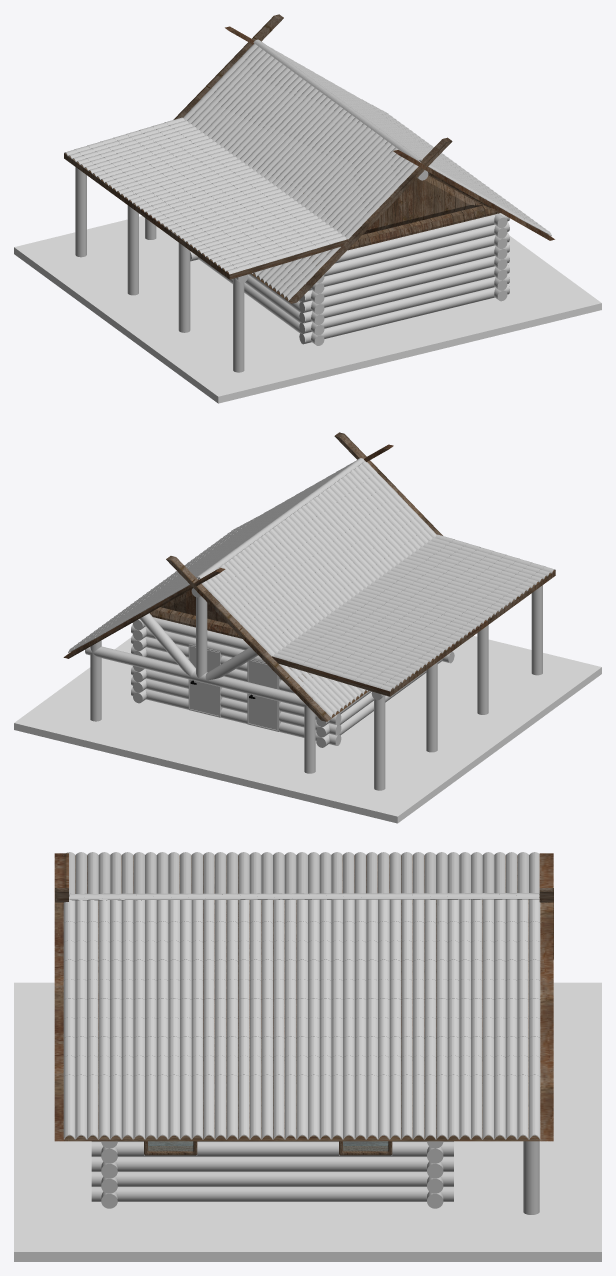
Rendered from Wood House 3.fbx.
3 views of the same model, one above another, from view 1: azimuth 30°, elevation 25°; view 2: azimuth 150°, elevation 25°; view 3: azimuth 270°, elevation 25° (orthographic). The views are drawn at different scales.
Visible parts, largest first — view 1: Cylinder.020, Cube.016, Cylinder.009, Cube.022, Cube.006, Cube.021, Cylinder.002, Cylinder.033, Cylinder.017, Cylinder.016, Cylinder.018, Cylinder.015; view 2: Cylinder.020, Cube.016, Cylinder.001, Cube.006, Cylinder.029, Cube.021, Cube.022, Cube.005, Cube.025, Cylinder.033, Cylinder.015, Cylinder.002 (+8 smaller); view 3: Cylinder.020, Cube.016, Cylinder.006, Cube.006, Cube.004, Cylinder.033, Cube.019, Cylinder.013, Cube.012, Cube.021.
Boxes of the visible parts, x1,y1,x2,y2 form: Cylinder.020: (64,39,551,300); Cube.016: (14,216,601,403); Cylinder.009: (301,213,509,343); Cube.022: (348,172,499,250); Cube.006: (173,14,554,303); Cube.021: (64,153,347,279); Cylinder.002: (198,257,321,344); Cylinder.033: (190,170,507,345); Cylinder.017: (178,243,190,332); Cylinder.016: (233,278,244,372); Cylinder.018: (127,205,138,295); Cylinder.015: (75,167,86,257); Cylinder.020: (68,458,555,717); Cube.016: (14,636,601,823); Cylinder.001: (131,617,338,745); Cube.006: (63,432,442,721); Cylinder.029: (85,646,306,707); Cube.021: (272,570,555,696); Cube.022: (150,589,242,638); Cube.005: (248,660,277,729); Cube.025: (190,646,218,715); Cylinder.033: (133,588,454,747); Cylinder.015: (374,695,385,790); Cylinder.002: (319,658,442,746); Cylinder.020: (63,852,540,1139); Cube.016: (14,982,601,1261); Cylinder.006: (91,1141,453,1201); Cube.006: (54,853,553,1141); Cube.004: (64,899,539,1141); Cylinder.033: (101,1141,443,1208); Cube.019: (144,1141,392,1155); Cylinder.013: (523,1141,539,1214); Cube.012: (148,1141,388,1150); Cube.021: (75,855,517,893).
Bounding box in the file's own units: 1309 × 624 × 1207.
